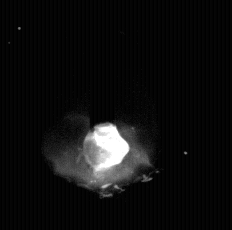arame: (91, 0, 117, 131)
poca: (45, 0, 151, 230)
